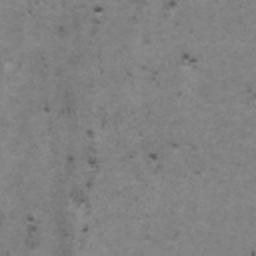Oxide scale of temperature system: (26, 104, 97, 233), (182, 51, 200, 63), (92, 5, 104, 14), (148, 152, 157, 160), (169, 0, 177, 8), (244, 86, 253, 93), (251, 248, 256, 256)
